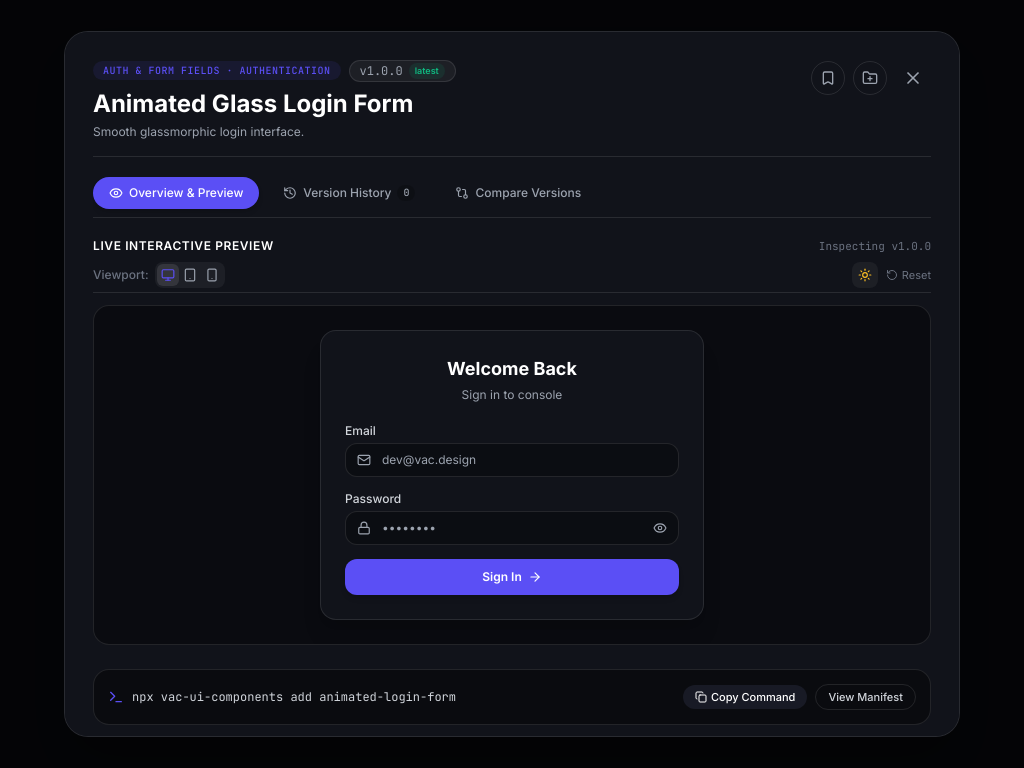
Test case: Phase 5 Component Version Management & Comparison Frontend Tests › switches to Version History tab and shows all published releases
This screenshot has width=1024, height=768.
Click the text "Version History": {"x": 347, "y": 193} [303,185,392,201]
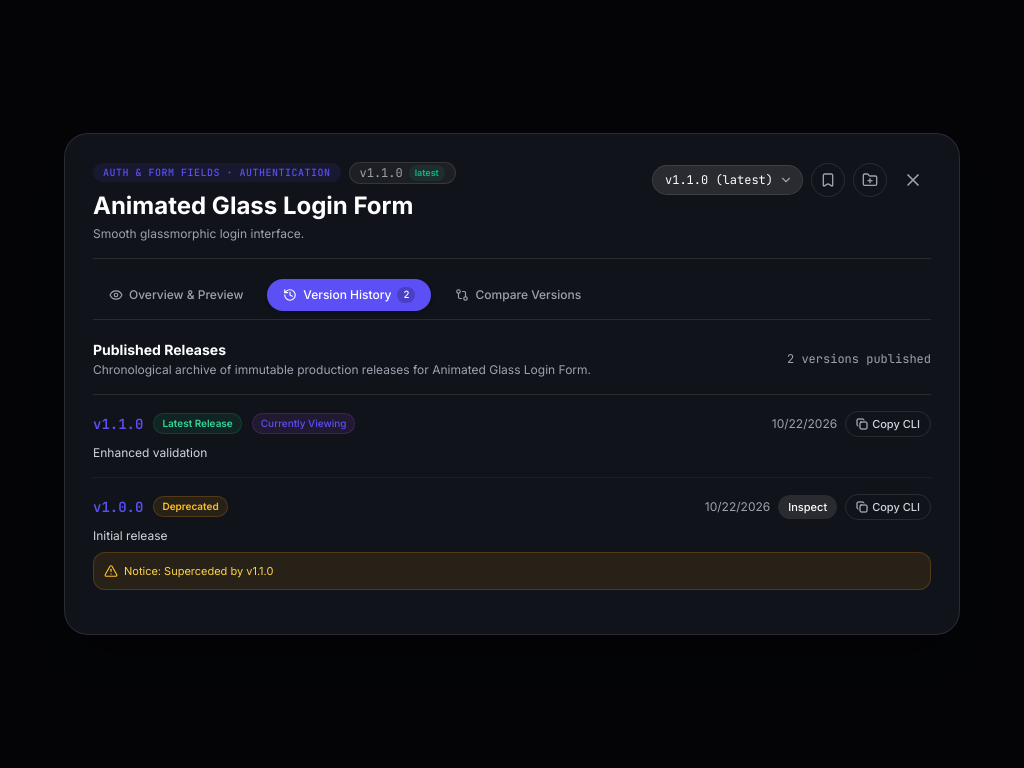
Expected: the heading "Published Releases" is shown, [93,341,226,358]
Expected: the text "Enhanced validation" is shown, [93,445,207,460]
Expected: the text "Initial release" is shown, [93,528,168,543]
